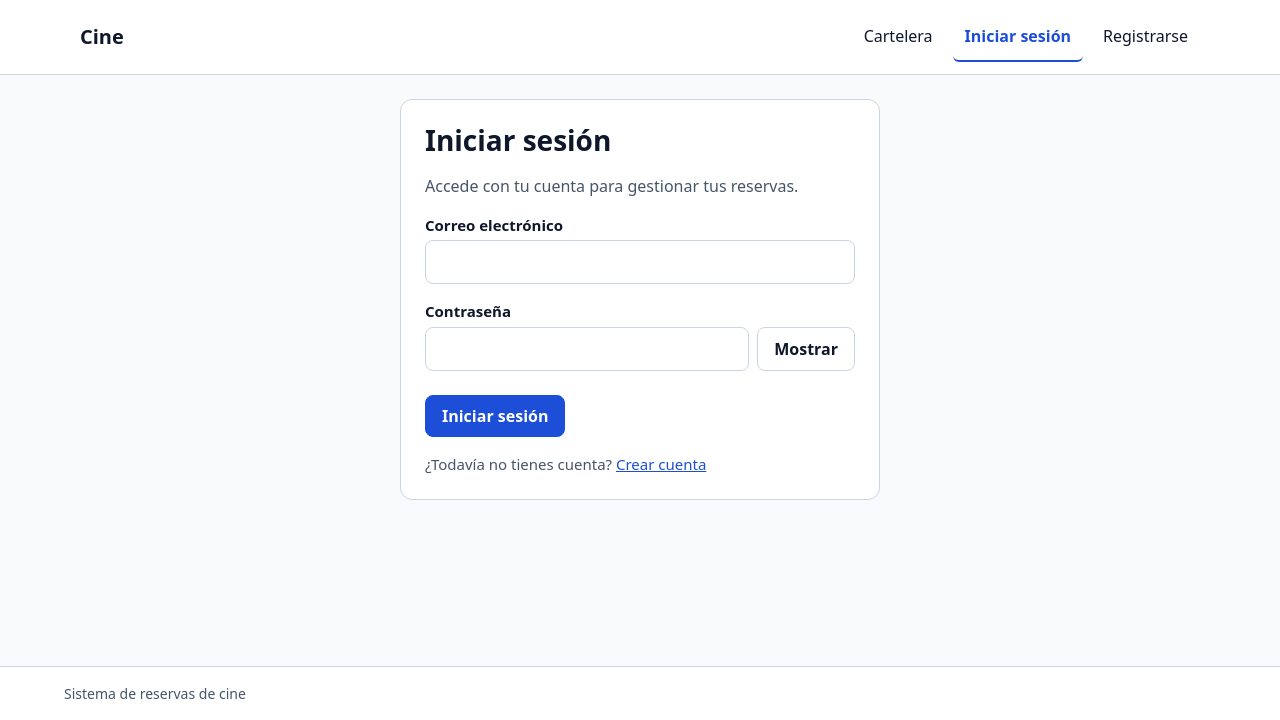
Test: Auth feature flows › validates login fields after interaction and displays API 401/429 errors without redirecting
The image size is (1280, 720).
Expected: the heading "Iniciar sesión" is shown, [425,121,611,159]
Expected: the text "Error:" is not shown
# Empty submit focuses the email field and shows field errors.
Click the button "Iniciar sesión": (495, 416) [425,395,566,437]
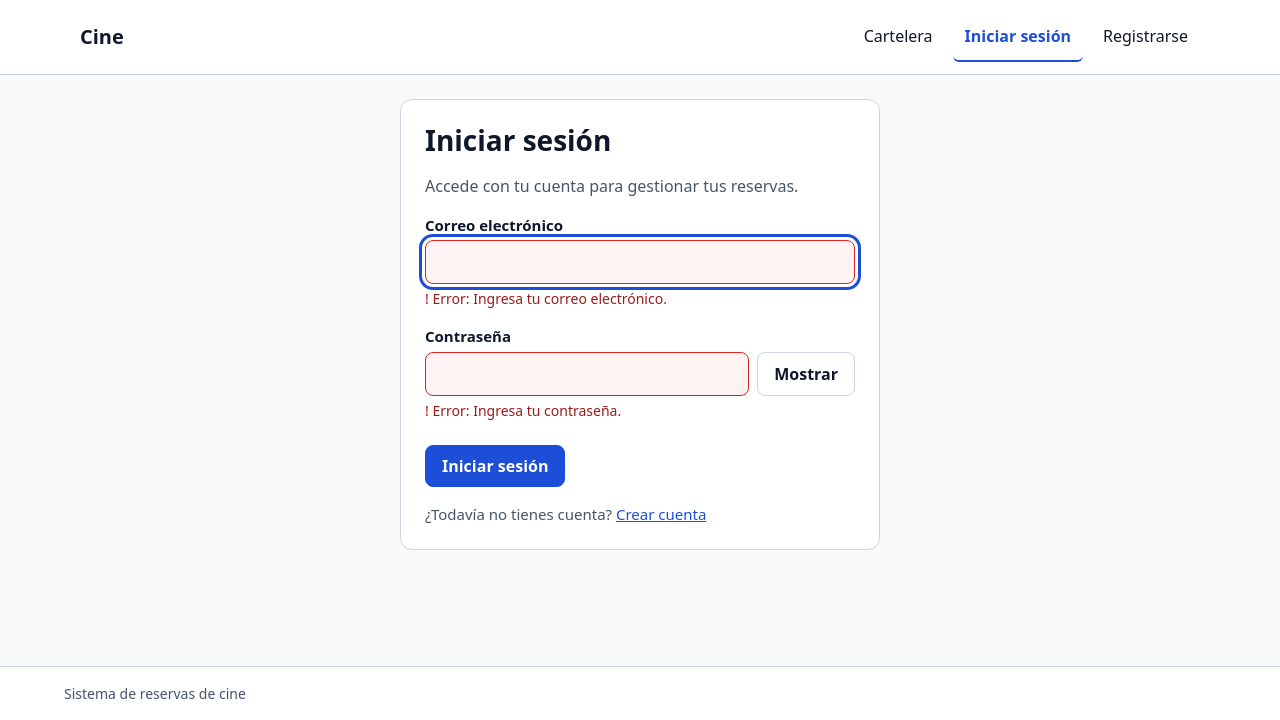
In the field labelled "Correo electrónico": (640, 262) [425,240,855,284], type "ana@cine.local"
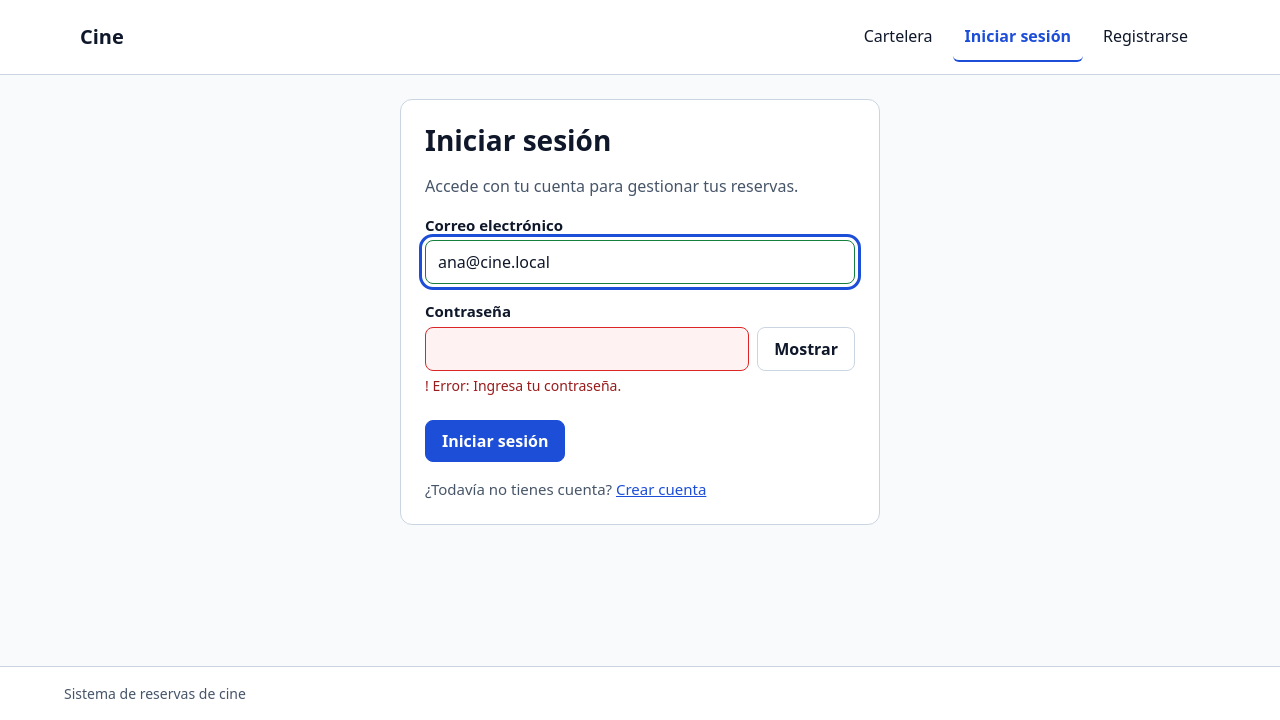
In the password field labelled "Contraseña": (587, 349) [425,327,749,371], type "WrongPass1!"
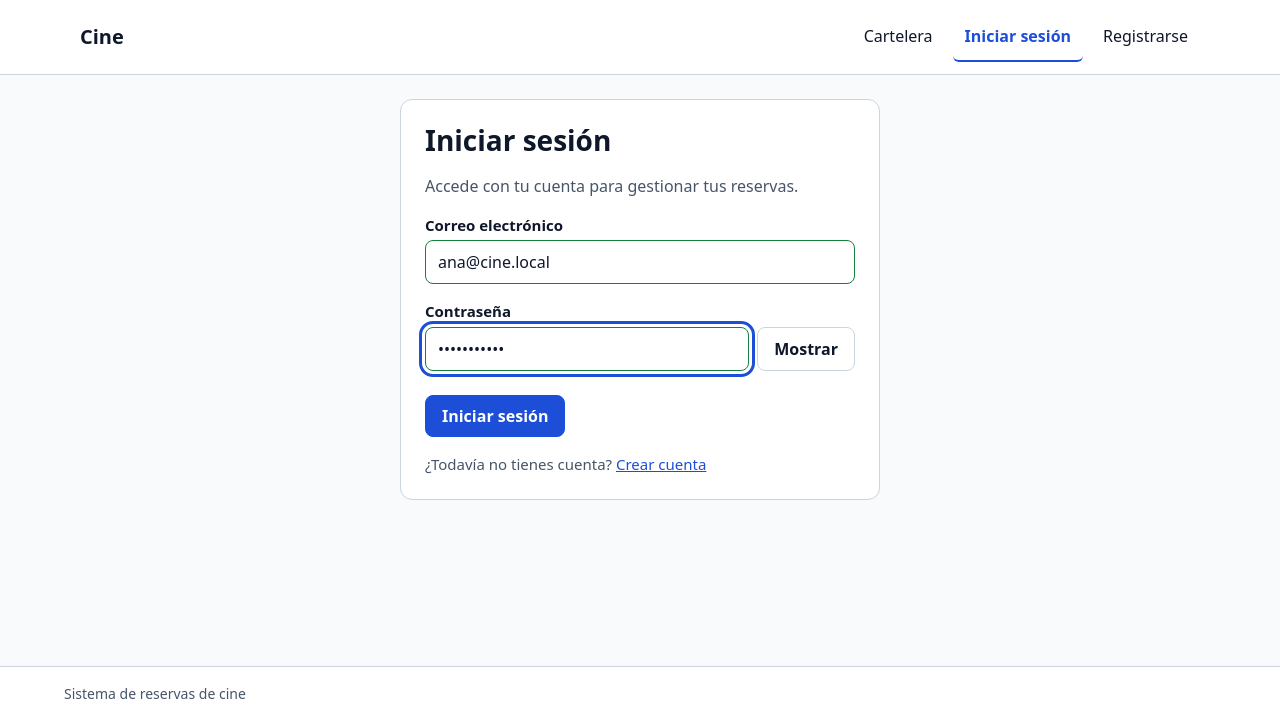
Click the button "Iniciar sesión": (495, 416) [425,395,566,437]
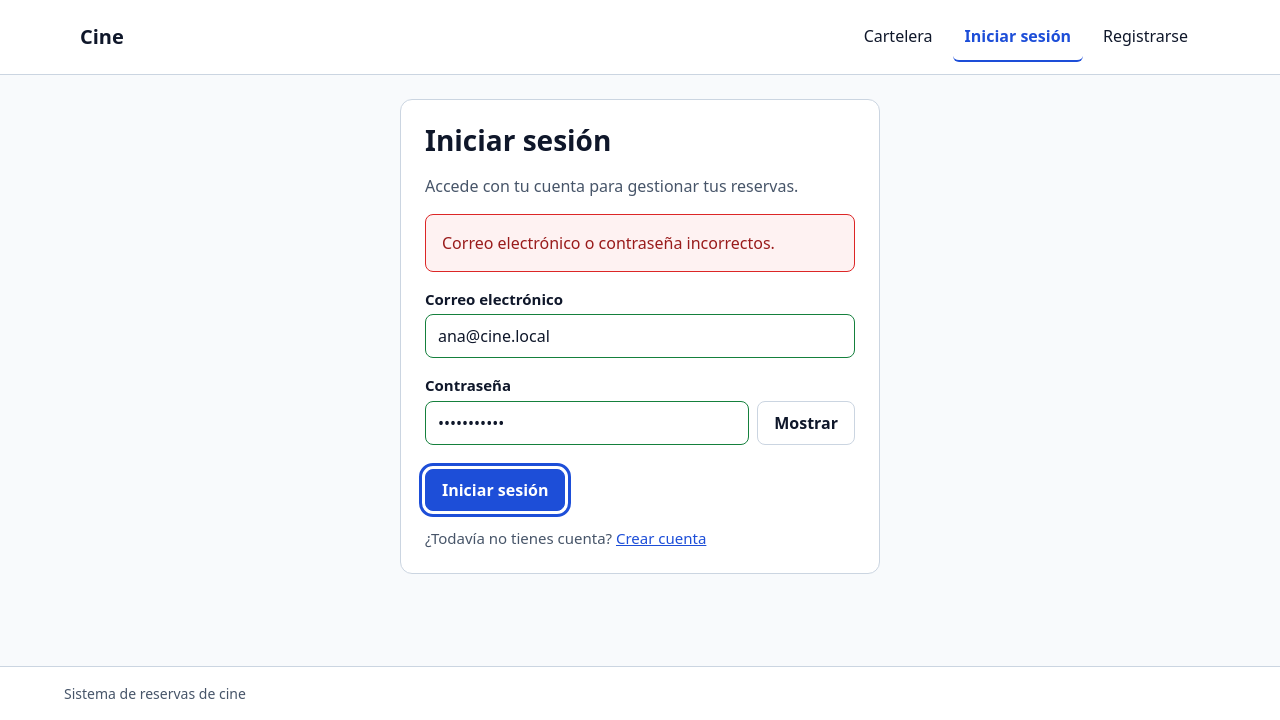
Expected: the message reads "Correo electrónico o contraseña incorrectos.", [442,232,775,254]
Click the button "Iniciar sesión": (495, 490) [425,469,566,511]
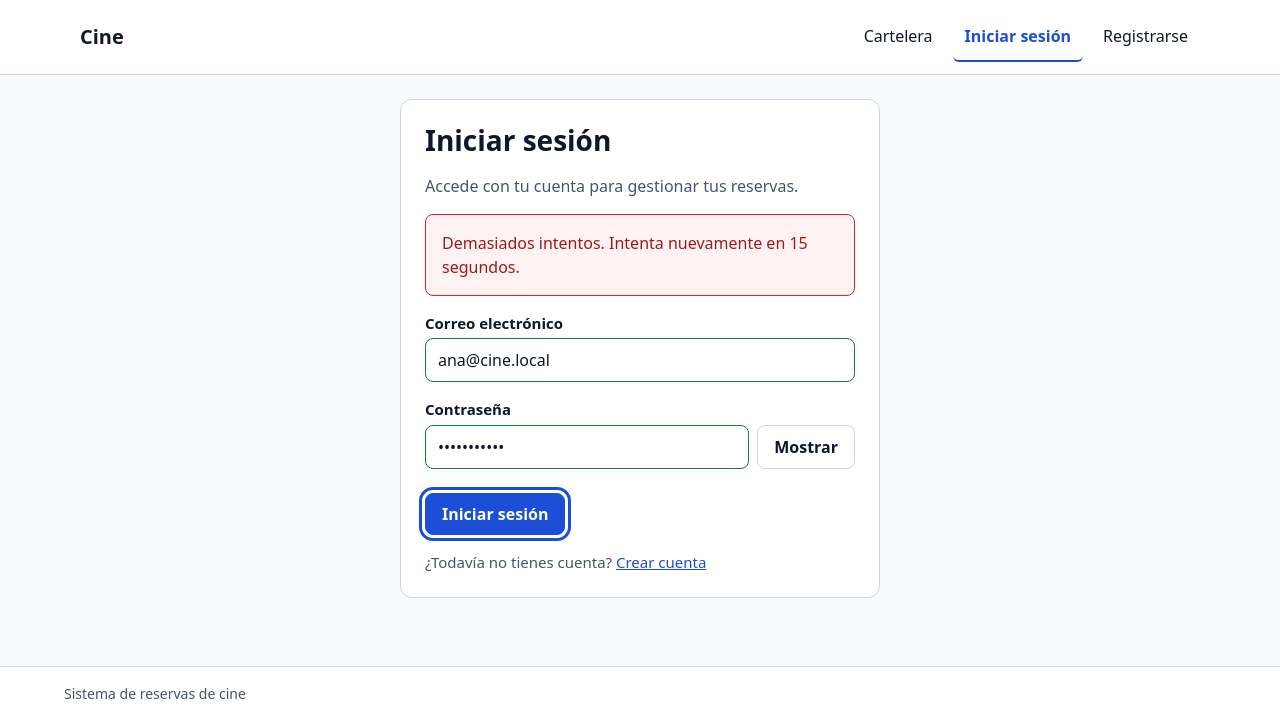
Expected: the message shows "15 segundos", [442,232,808,278]
